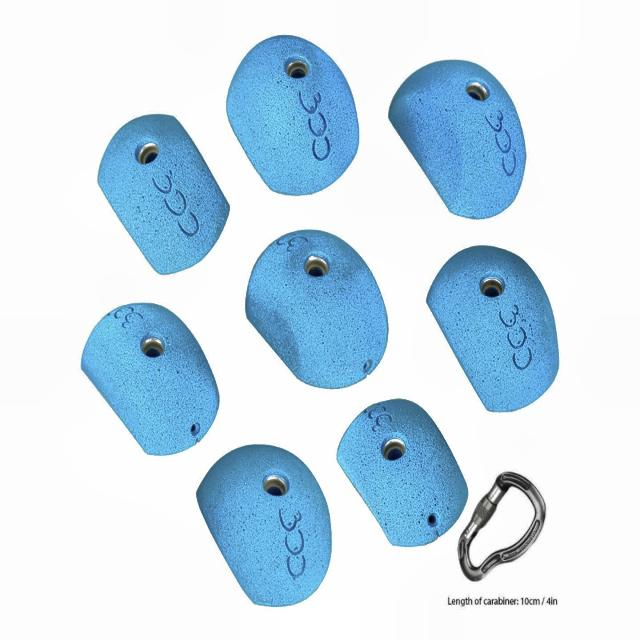Hold: (248, 223, 388, 387), (428, 242, 564, 410), (80, 301, 219, 456), (196, 446, 330, 605), (225, 29, 358, 188), (388, 62, 521, 216), (99, 118, 228, 274), (337, 401, 462, 546)
